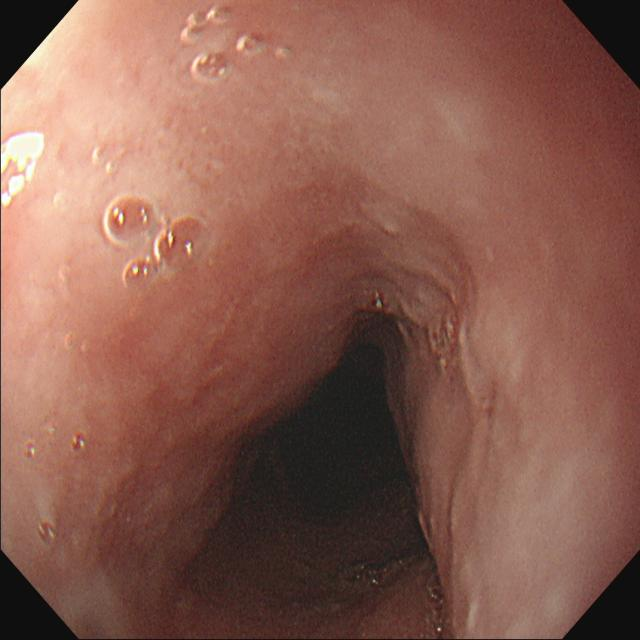E: (194, 312, 428, 588)
T: (101, 191, 214, 291), (178, 4, 273, 84), (36, 520, 57, 545), (72, 432, 91, 457), (23, 438, 42, 462)
U: (2, 132, 45, 208)
